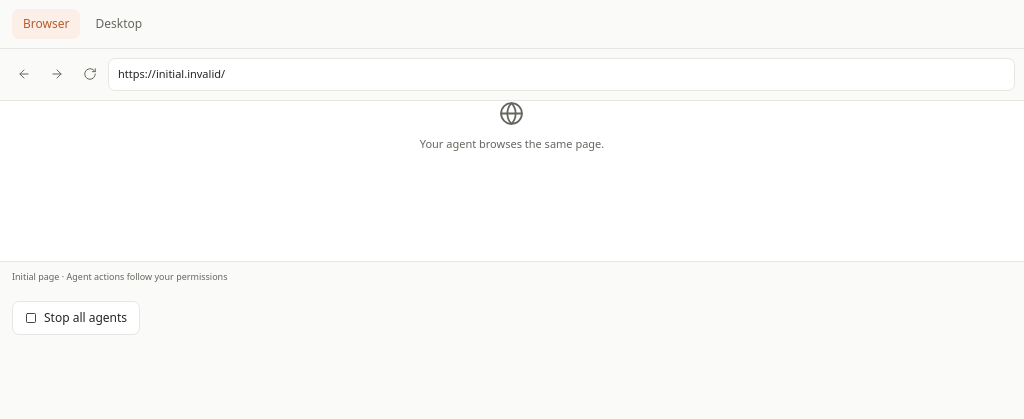
Test: browser address request ownership › keeps failed input and its error through successful binds and polling, then permits retry
The width and height of the screenshot is (1024, 419).
Step 1. Replace the text in the field named "Agent browser address" with "retry.invalid/path" → [562, 74], box [108,58,1015,90]
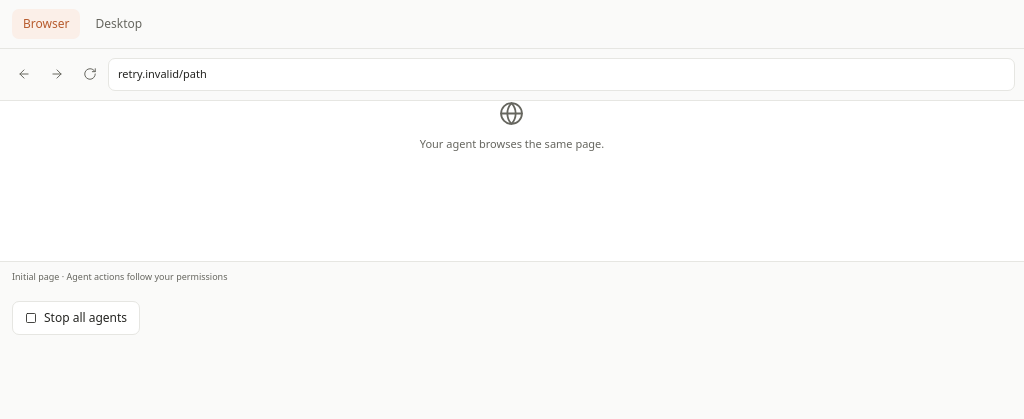
Step 2. Submit the form named "Agent browser address", box [108,58,1015,90]
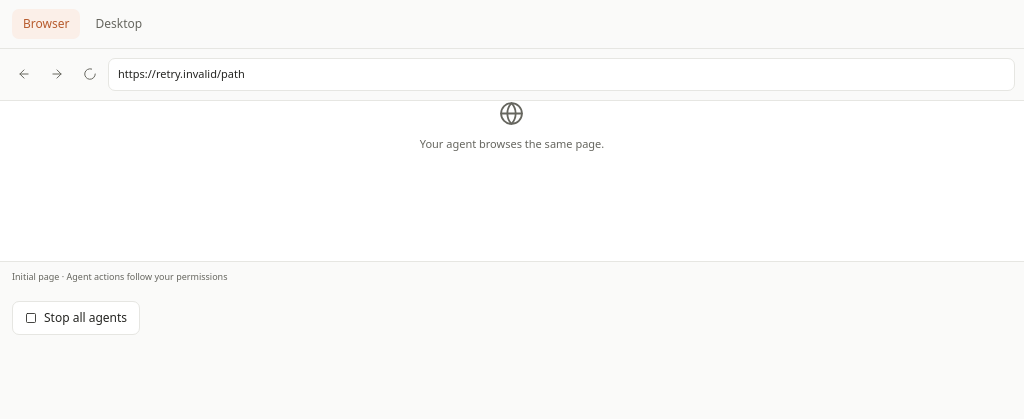
Step 3. Leave the field named "Agent browser address", box [108,58,1015,90]
Wait 1500 ms
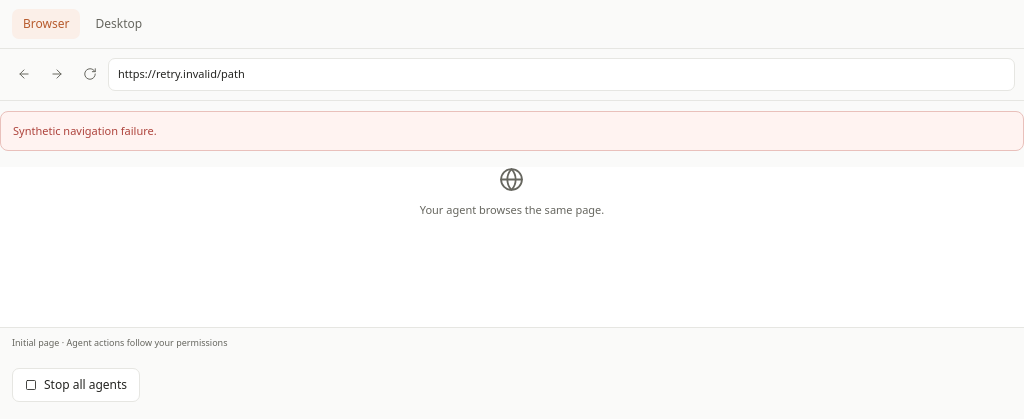
Expected: the field named "Agent browser address" holds "https://retry.invalid/path"
Expected: the text "Synthetic navigation failure." is shown, [13,122,157,139]
Step 4. Submit the form named "Agent browser address", box [108,58,1015,90]
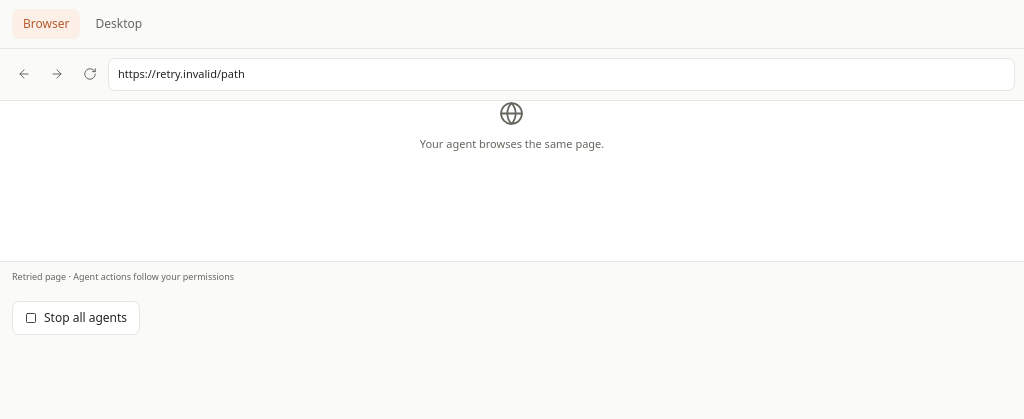
Expected: the field named "Agent browser address" holds "https://retry.invalid/path", [108,58,1015,90]
Expected: the text "Synthetic navigation failure." is gone
